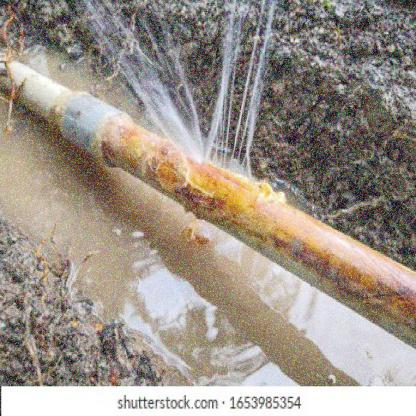burst: (156, 130, 273, 194)
